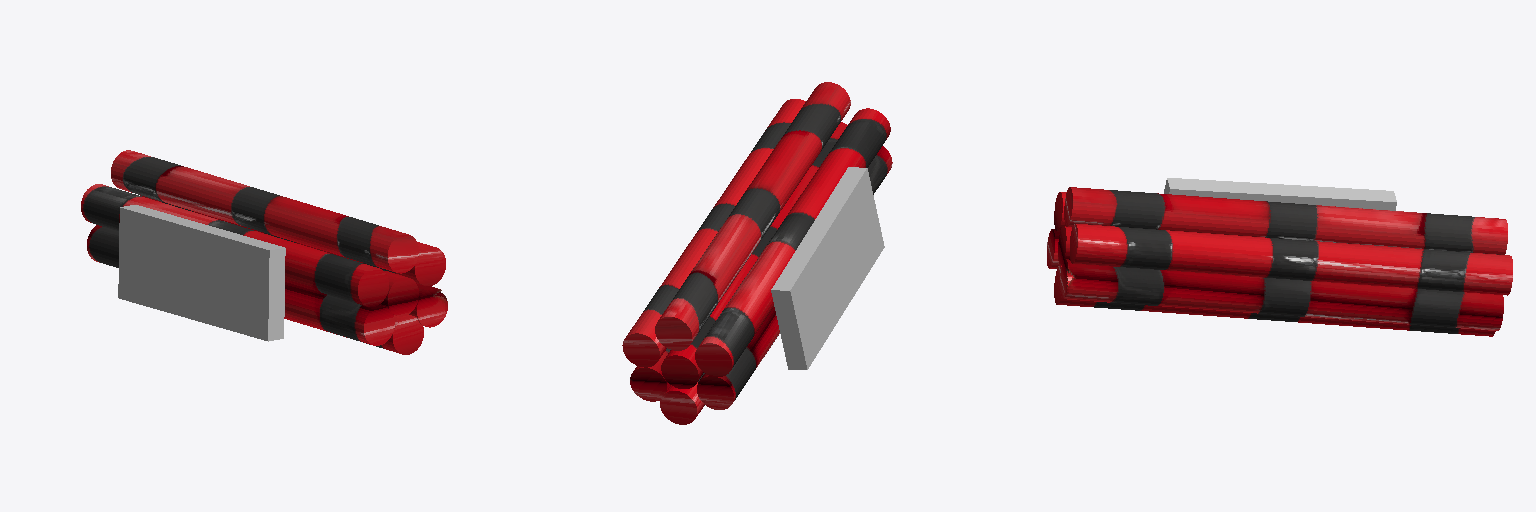
3 renders of one model, left to right at view 1: azimuth 30°, elevation 25°; view 2: azimuth 150°, elevation 25°; view 3: azimuth 270°, elevation 25°, orthographic.
Visible parts, largest first — view 1: Cylinder.005_Cylinder.016, Cube_Cube.001; view 2: Cylinder.005_Cylinder.016, Cube_Cube.001; view 3: Cylinder.005_Cylinder.016, Cube_Cube.001.
Boxes of the visible parts, <box> form: Cylinder.005_Cylinder.016: <box>81,150,447,354</box>; Cube_Cube.001: <box>118,205,285,341</box>; Cylinder.005_Cylinder.016: <box>622,82,892,424</box>; Cube_Cube.001: <box>771,167,884,369</box>; Cylinder.005_Cylinder.016: <box>1047,187,1512,336</box>; Cube_Cube.001: <box>1164,178,1396,210</box>.
Bounding box in the file's own units: 4.38 × 4.12 × 9.99.
Materials: 2 (1 with a texture image).